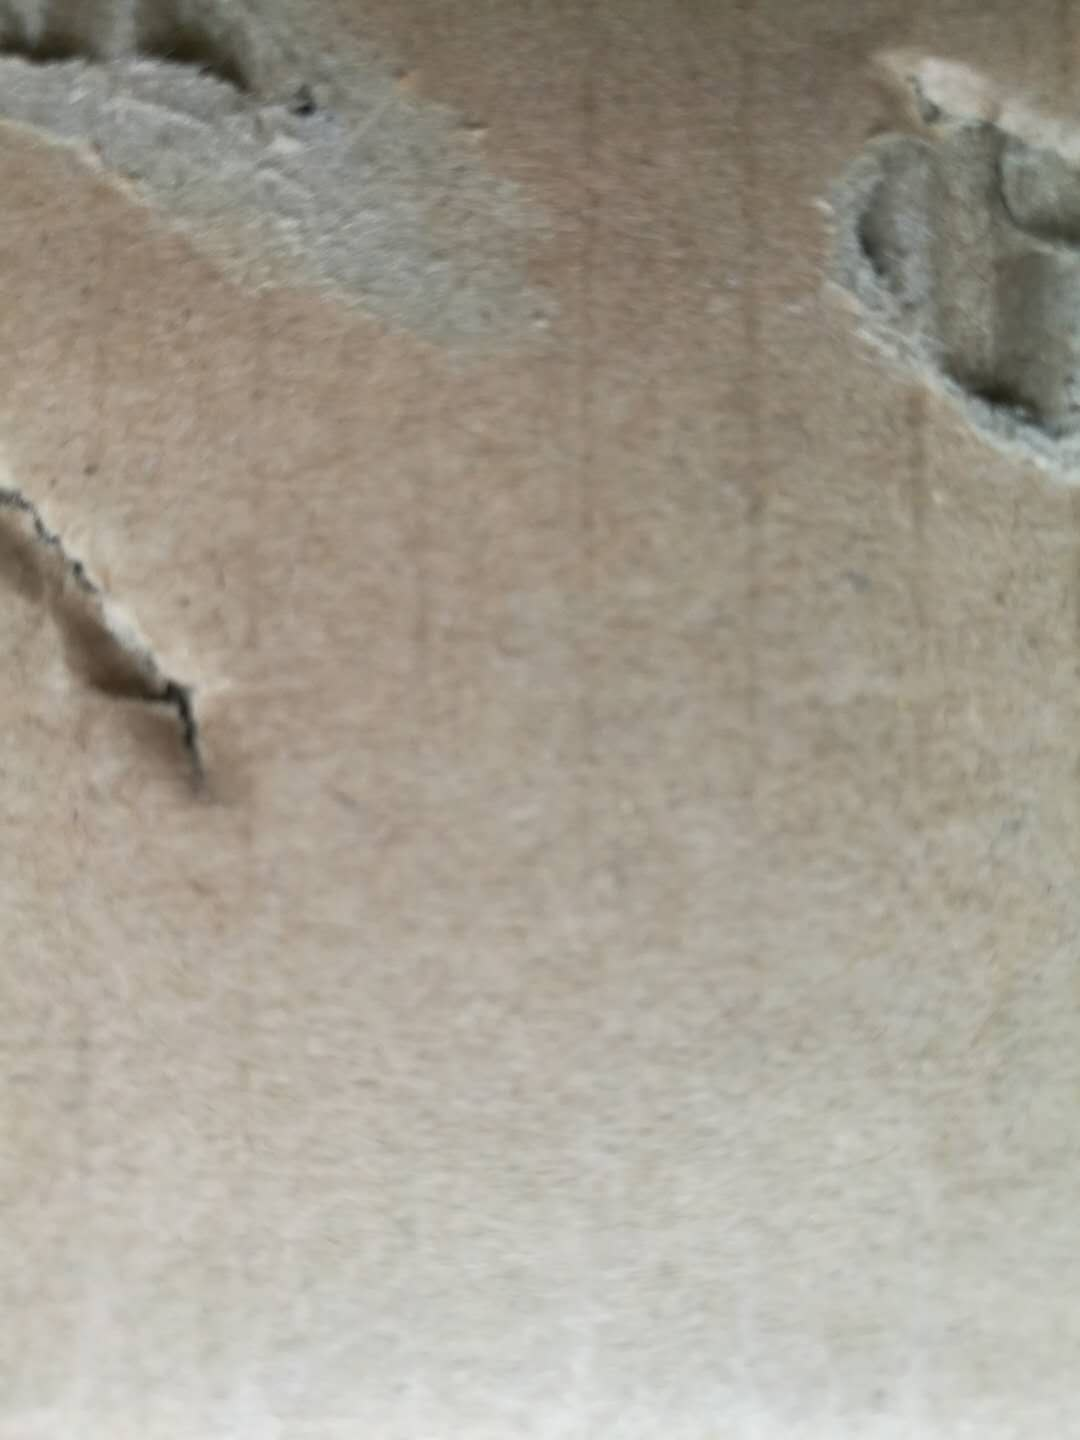defect: (1, 1, 602, 404), (774, 22, 1080, 492), (1, 442, 289, 884)
